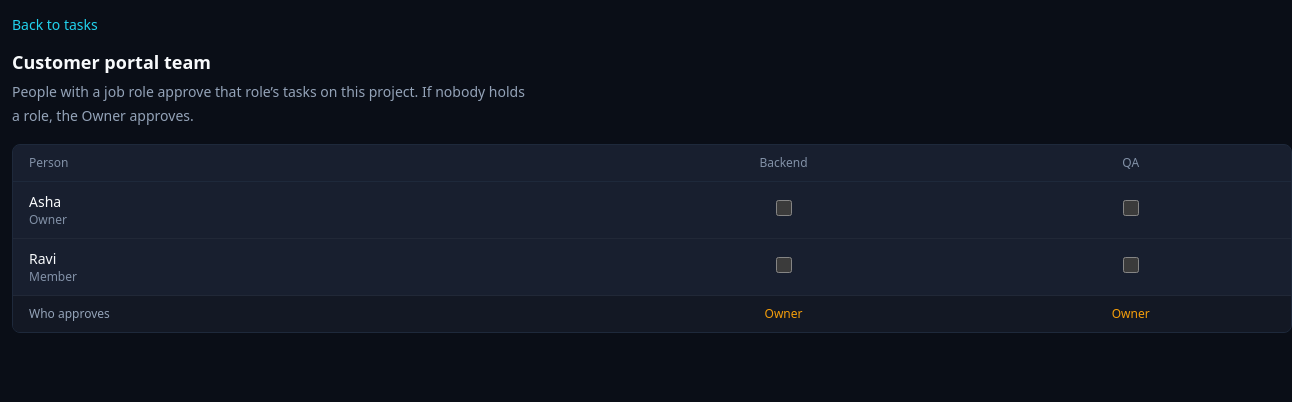
Test: ProjectTeamPage › shows an error and keeps the old value when saving fails
Click the checkbox named "Backend for Ravi" at (784, 264), box [776,256,792,272]
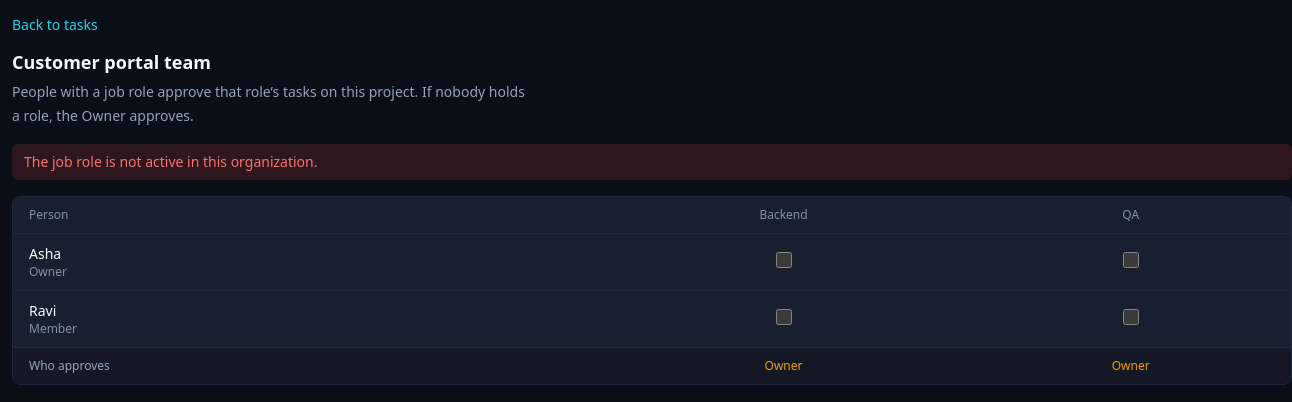
Check: the checkbox named "Backend for Ravi" is not checked, box [776,308,792,324]
Check: the message shows "not active", box [24,152,318,171]
